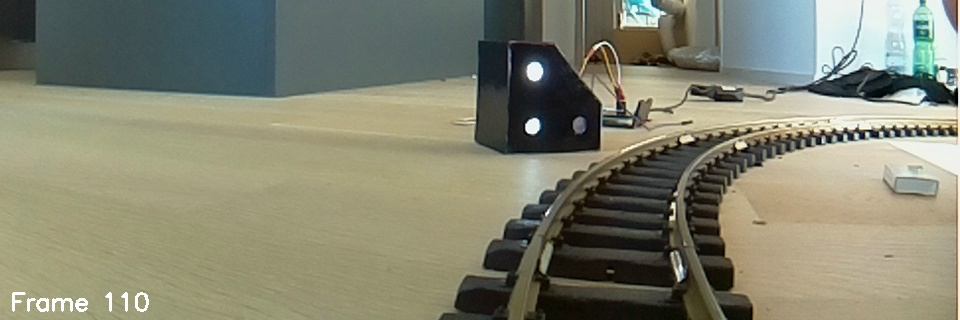Fahrt: (474, 37, 603, 156)
